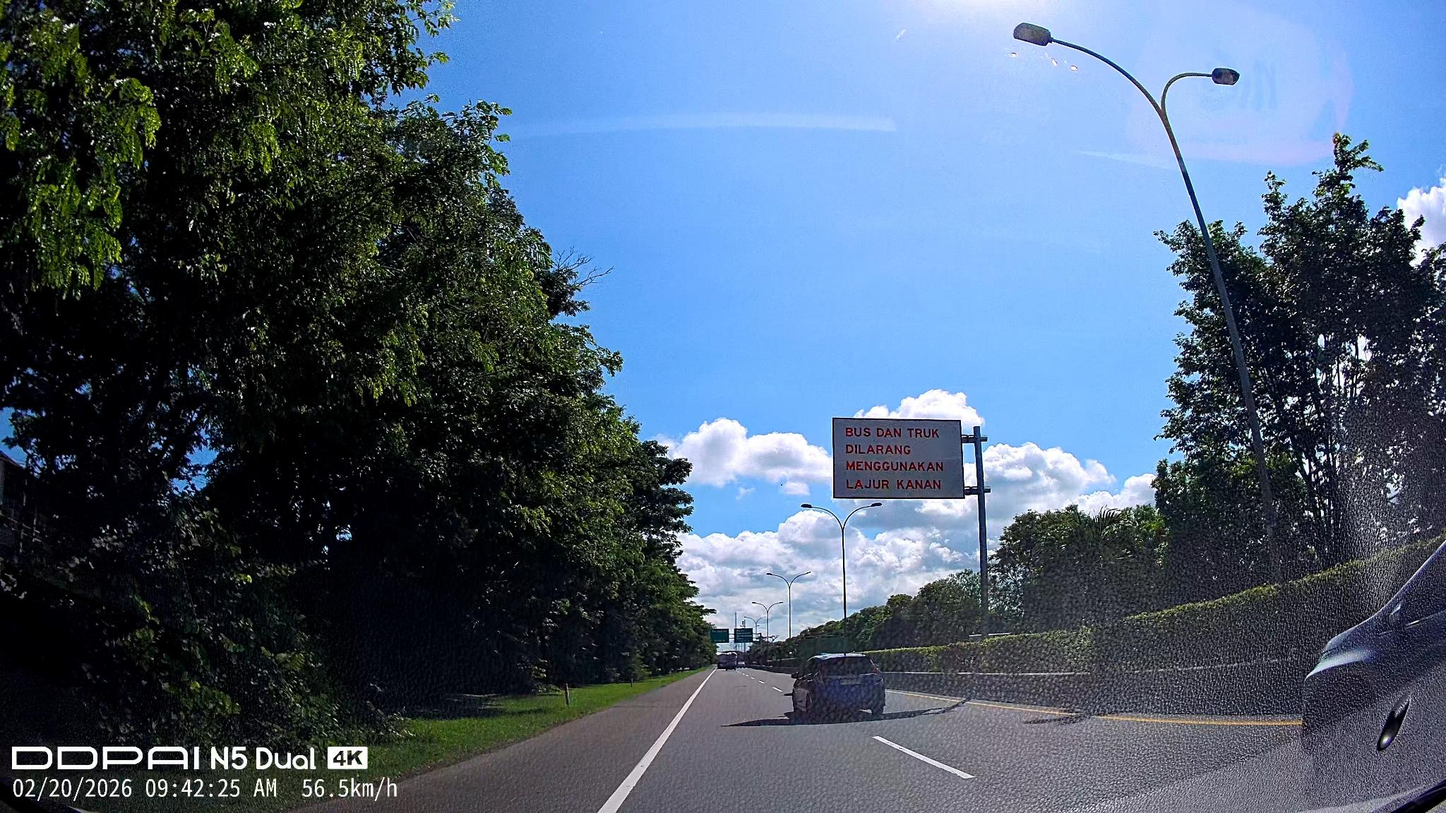rambu_teks: (832, 417, 966, 500)
